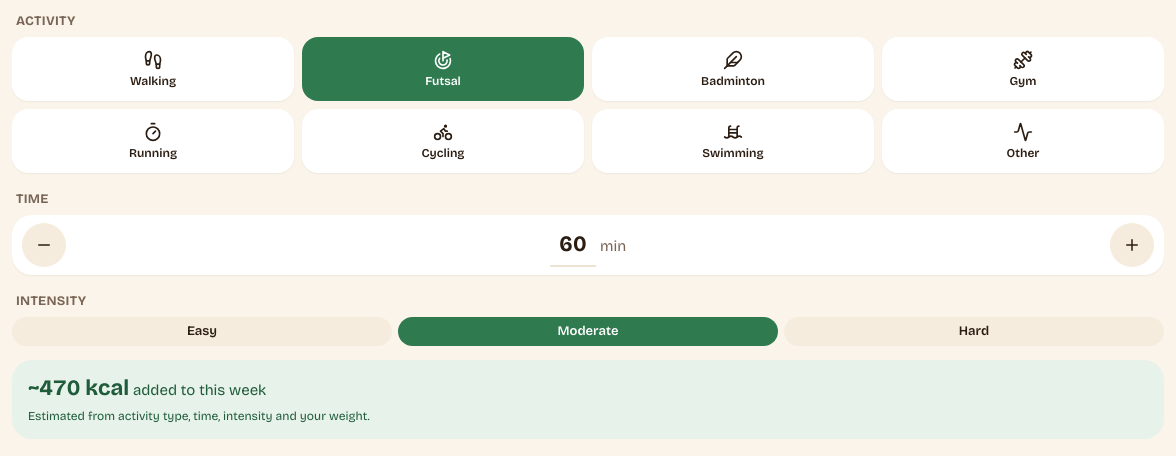
Scenario: WorkoutForm (C51) › updates the estimate as the type, time and intensity change
Click the radio button labelled "Walking" at {"x": 153, "y": 69}, box [12,37,294,101]
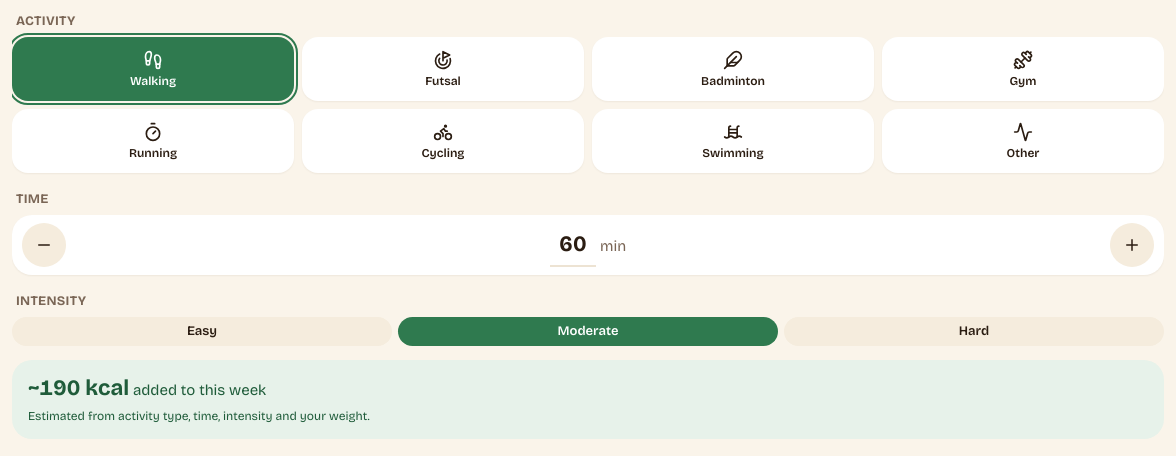
Check: the element showing "~190 kcal added to this week" is shown, box [28,375,266,401]
Click the button named "5 minutes less" at {"x": 44, "y": 245}, box [22,223,66,267]
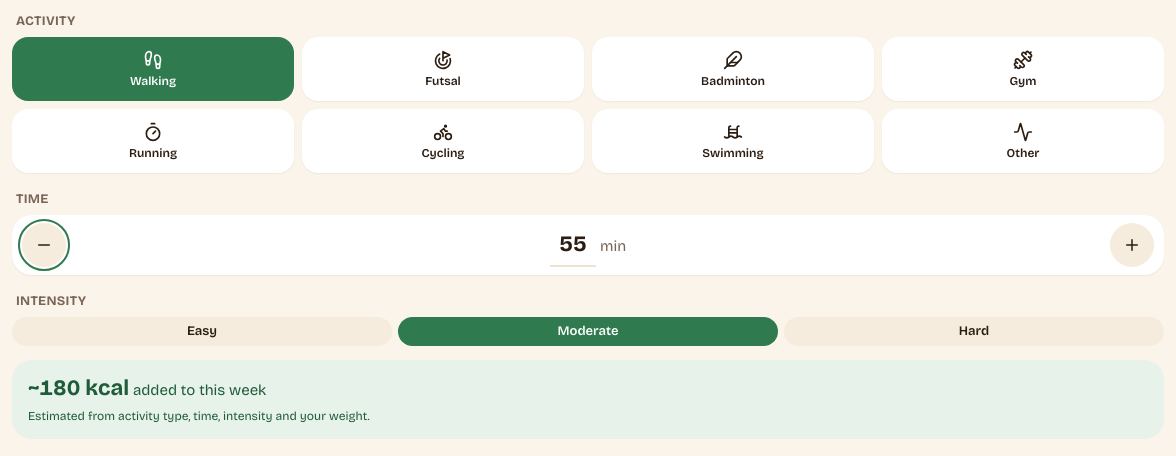
Check: the field named "Time in minutes" holds "55", box [550,223,596,267]
Click the button named "5 minutes more" at {"x": 1132, "y": 245}, box [1110,223,1154,267]
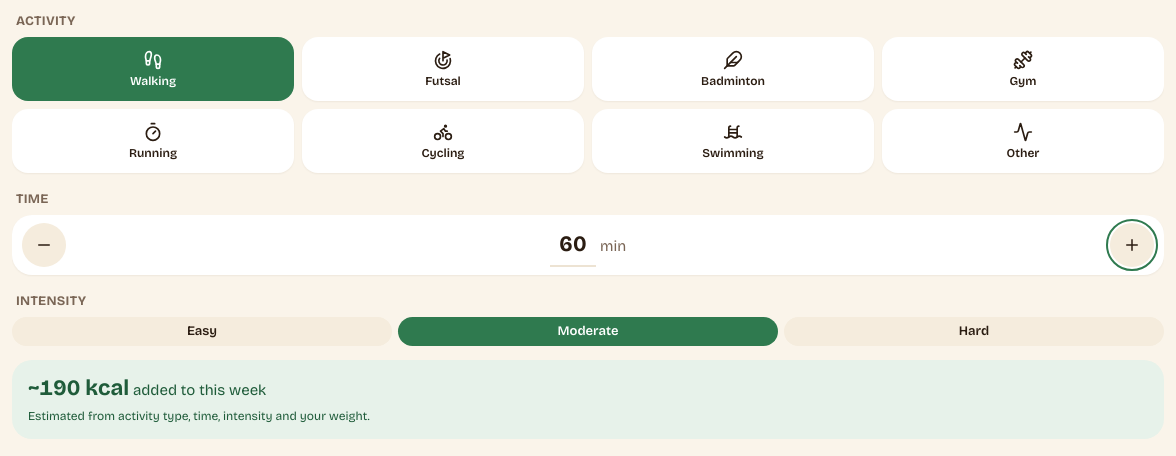
Click the button named "5 minutes more" at {"x": 1132, "y": 245}, box [1110,223,1154,267]
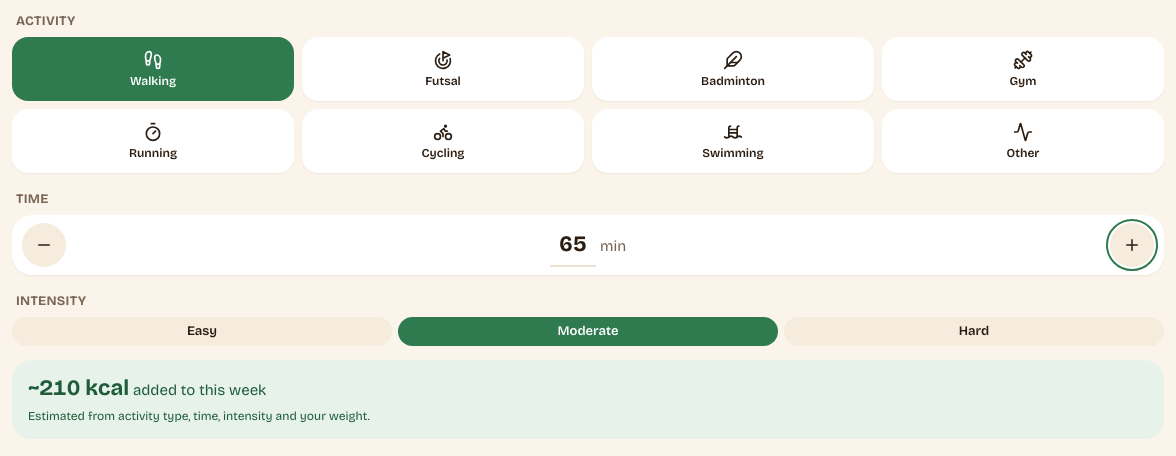
Check: the field named "Time in minutes" holds "65", box [550,223,596,267]
Click the radio button labelled "Hard" at {"x": 974, "y": 331}, box [784,317,1164,346]
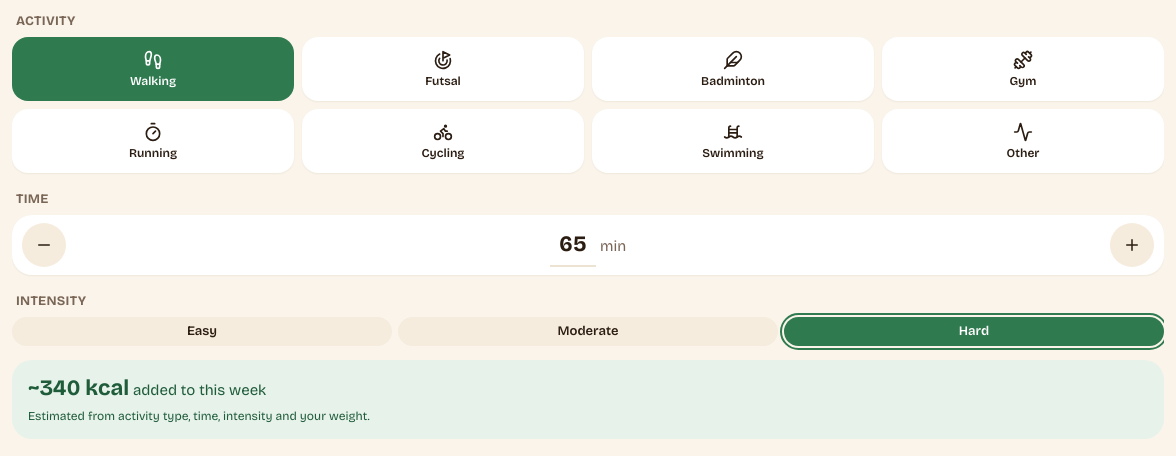
Check: the element showing "~340 kcal added to this week" is shown, box [28,375,266,401]
